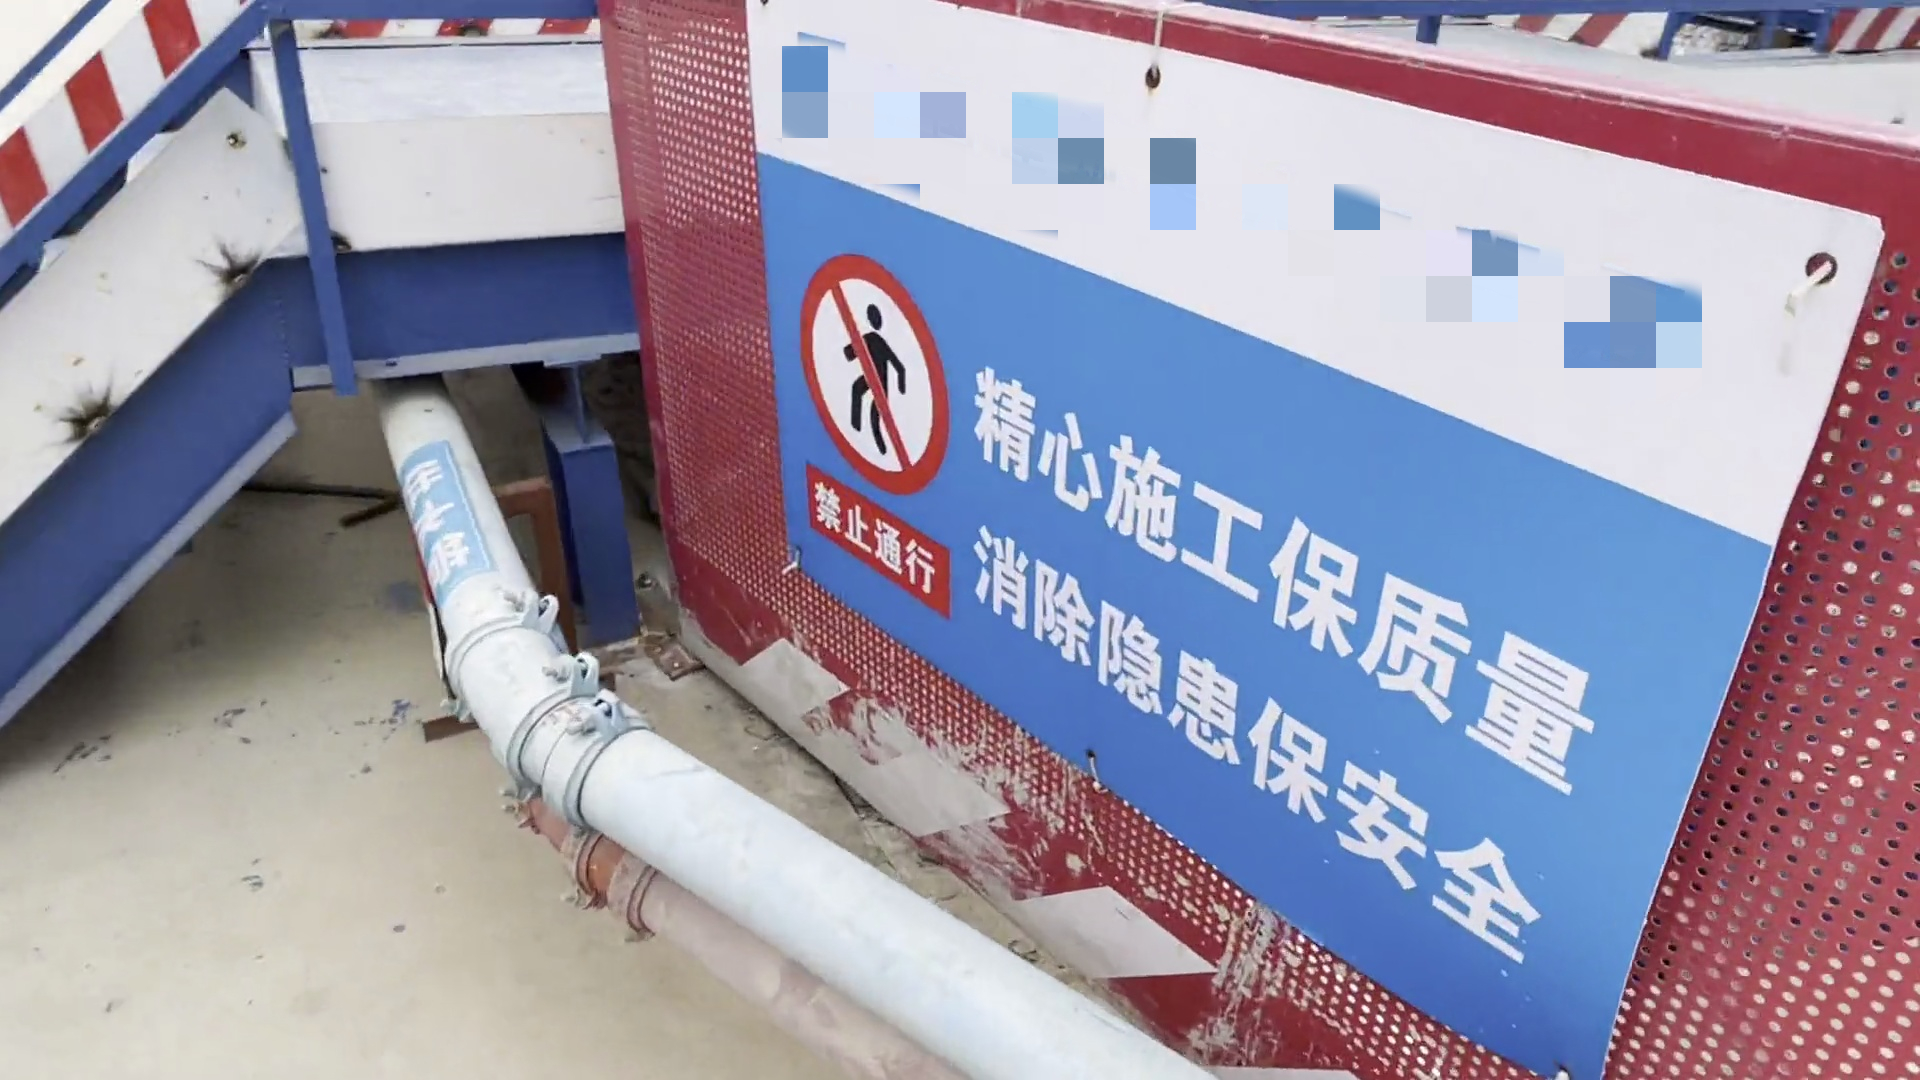slogan: (798, 237, 1625, 1007)
